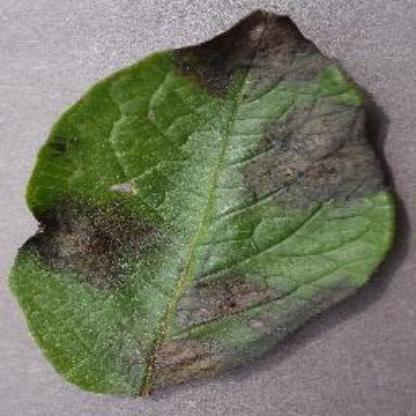Late-Blight: (7, 6, 408, 406)
